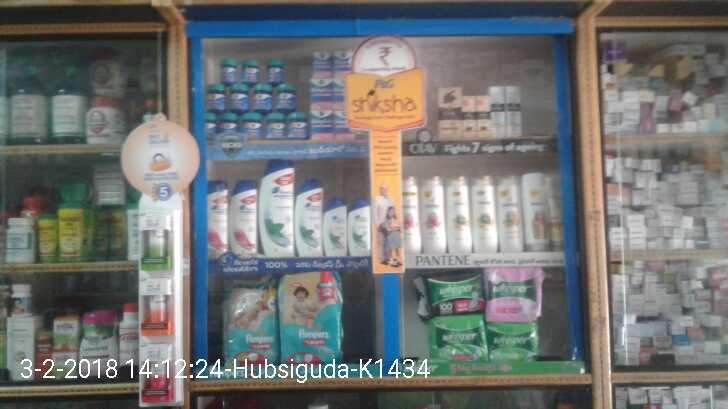vicks: (200, 44, 358, 150)
